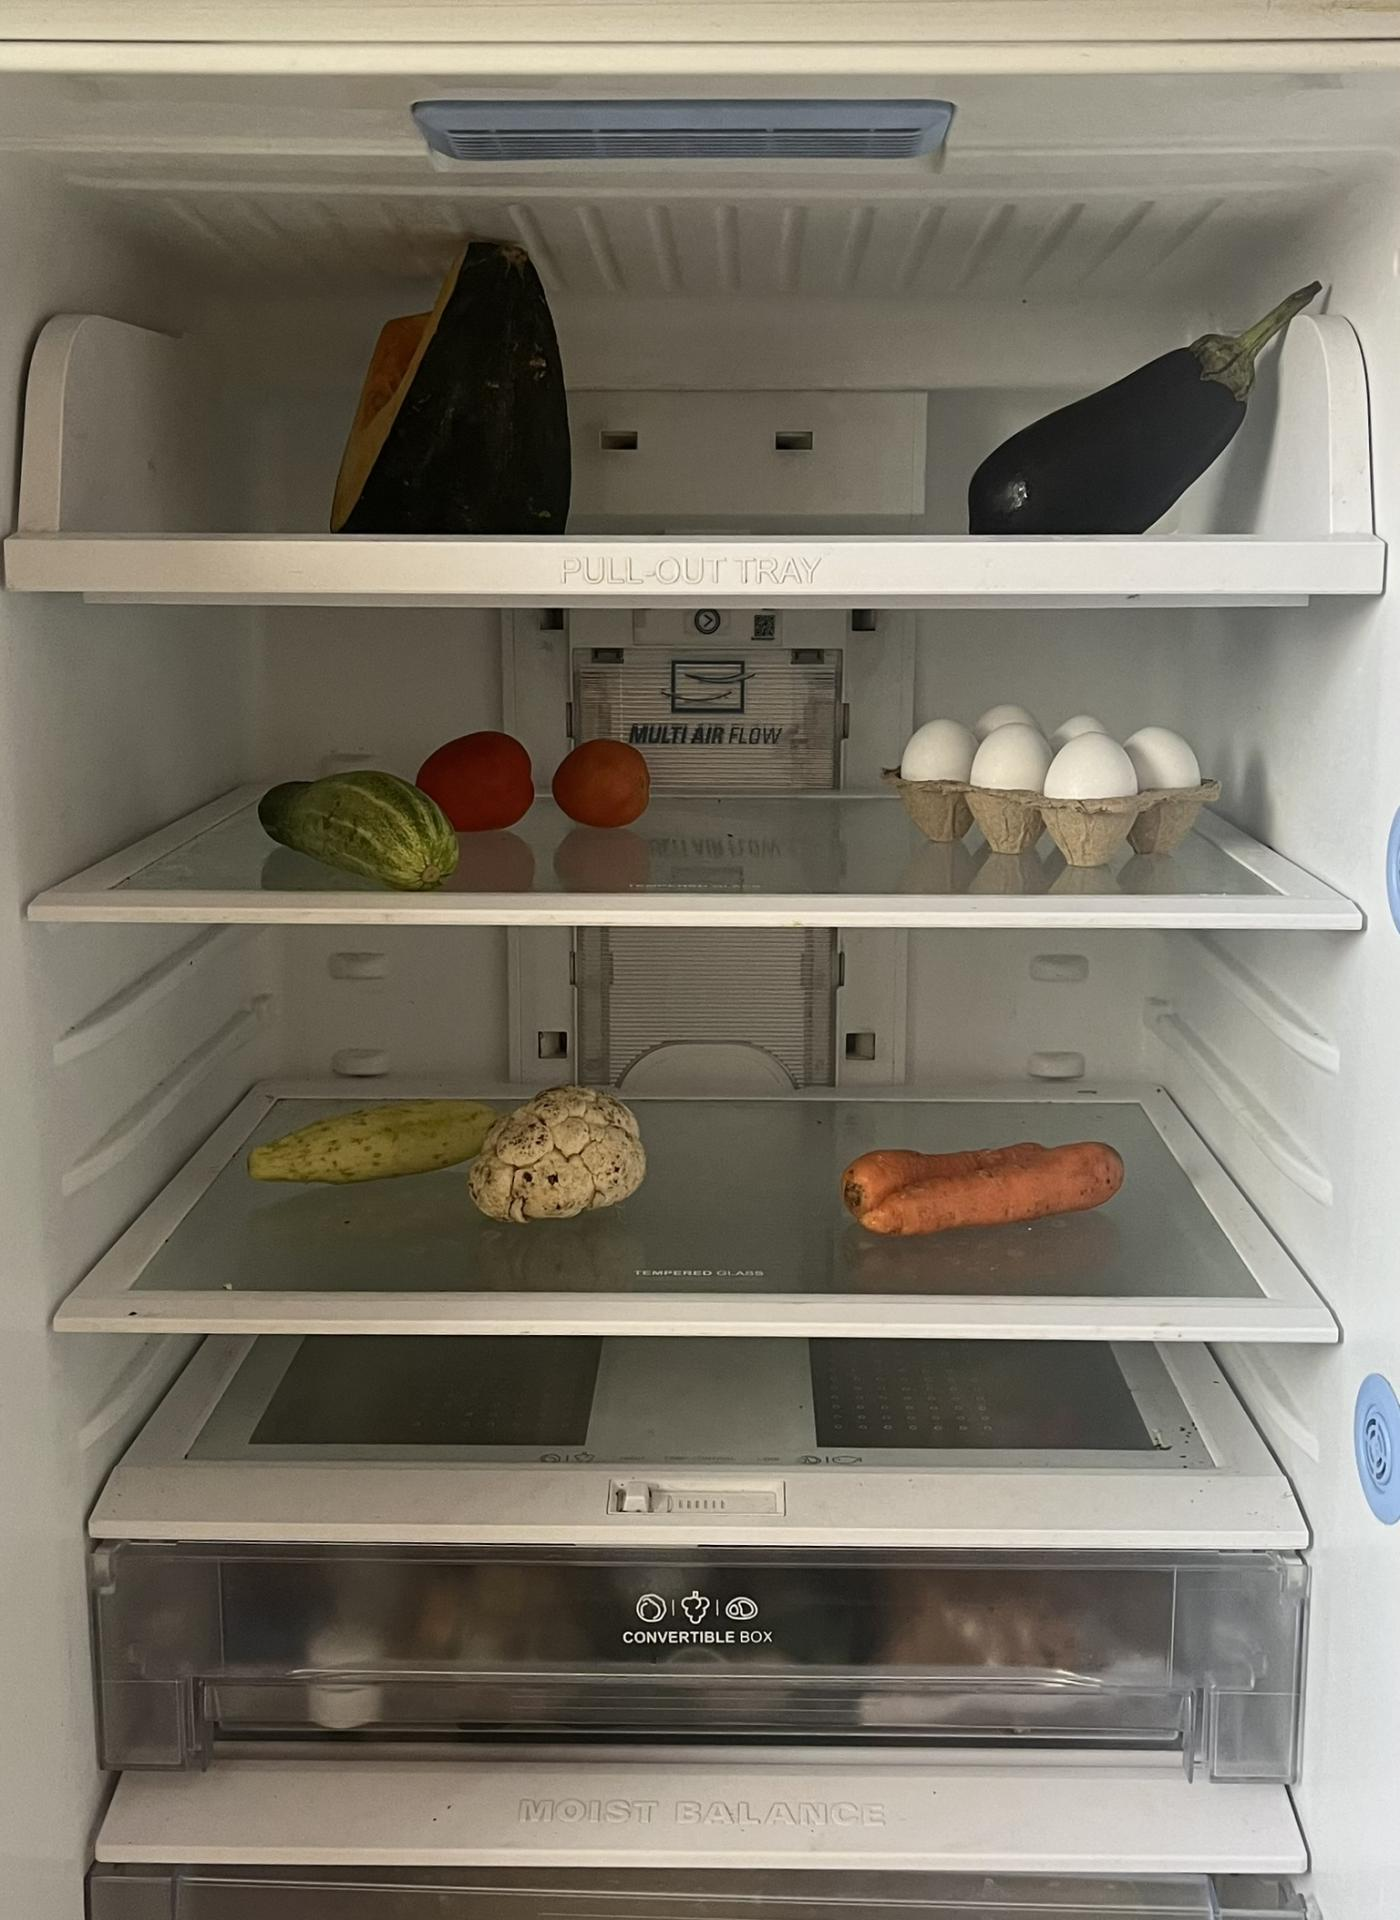carrots: (845, 1128, 1142, 1243)
cauliflower: (477, 1078, 659, 1222)
cucumber: (255, 759, 480, 884), (234, 1094, 532, 1175)
egg: (890, 690, 1224, 860)
pumpkin: (334, 237, 571, 525)
tomato: (425, 724, 544, 830), (550, 735, 656, 832)
